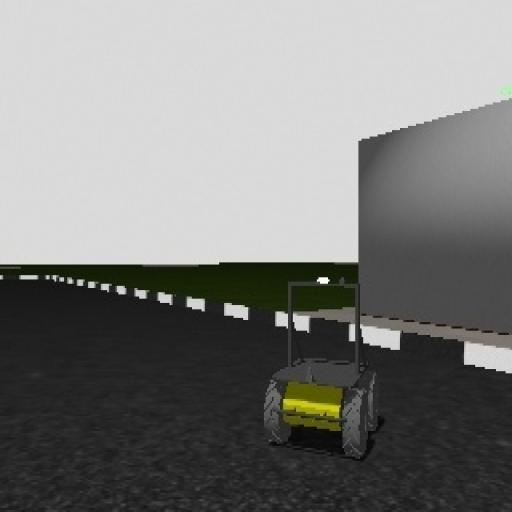huskya200: (245, 267, 387, 462)
